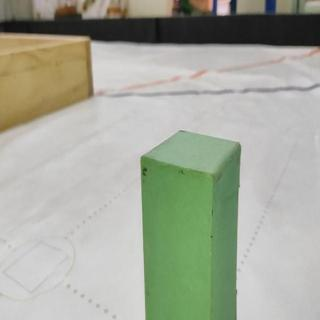greenbox: (137, 126, 241, 320)
